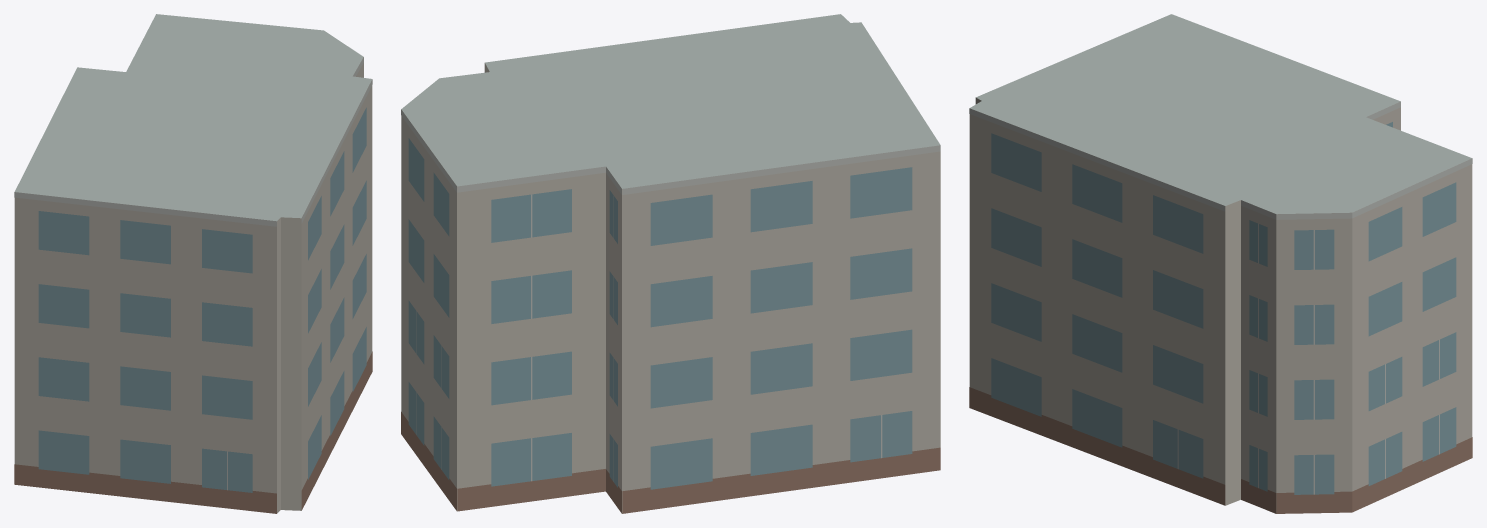
The model's file is survey-upis-32986381.glb.
3 views of the same model, side by side, from view 1: azimuth 30°, elevation 25°; view 2: azimuth 150°, elevation 25°; view 3: azimuth 270°, elevation 25° (orthographic). The views are drawn at different scales.
Visible parts, largest first — view 1: survey-upis-32986381.tmp; view 2: survey-upis-32986381.tmp; view 3: survey-upis-32986381.tmp.
Part boxes in pixels (<box>): survey-upis-32986381.tmp: <box>14,14,372,513</box>; survey-upis-32986381.tmp: <box>401,14,940,513</box>; survey-upis-32986381.tmp: <box>969,14,1472,513</box>.
Bounding box in the file's own units: 18.34 × 12.8 × 19.47.
